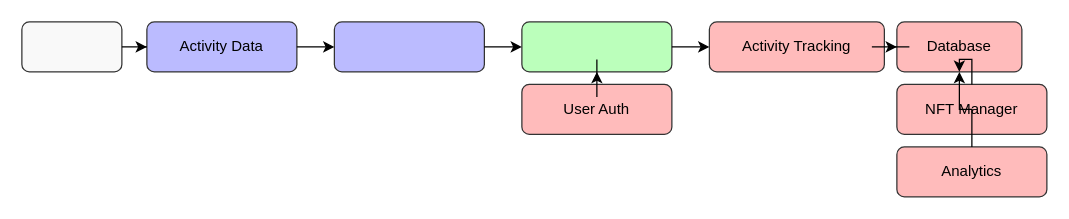
The diagram is 1069 pixels wide and 219 high, and some of its shapes have lost their labels. The shapes that lost their labels are listed below. From the top down, each one's centre as x and y in pixels, then its label:
At pixel 71 46: "Device".
At pixel 408 46: "Mobile App".
At pixel 596 46: "API Gateway".
